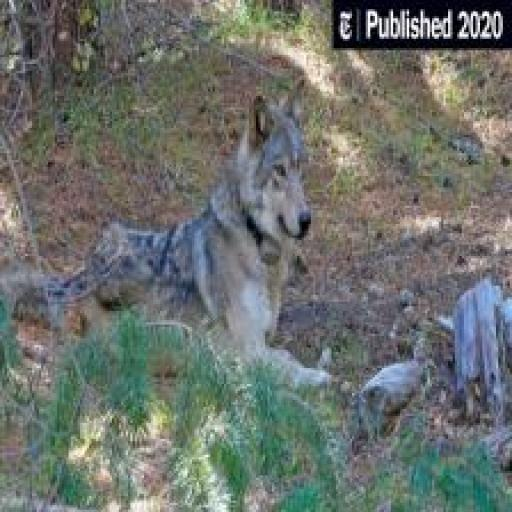wolf: (14, 78, 337, 424)
